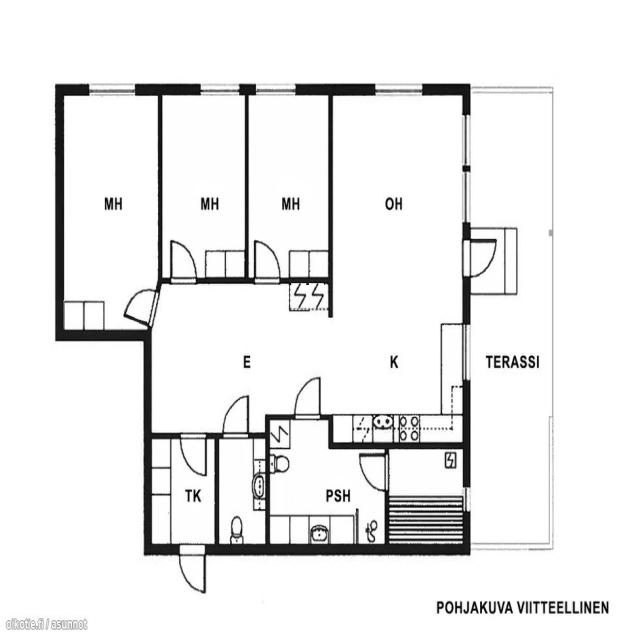door: (216, 388, 256, 440), (462, 233, 502, 281), (291, 369, 325, 424), (356, 447, 393, 497), (176, 542, 209, 597), (166, 234, 200, 286), (178, 430, 210, 480), (121, 282, 157, 326), (251, 235, 282, 284)
window: (458, 111, 475, 231), (82, 76, 144, 102), (368, 76, 428, 101), (194, 77, 245, 102), (458, 316, 475, 388), (250, 79, 300, 100), (458, 483, 475, 518)
zone: (332, 83, 465, 446), (151, 279, 340, 430), (60, 88, 162, 335), (161, 89, 249, 283), (248, 89, 331, 282), (266, 442, 388, 548), (386, 443, 468, 552), (148, 433, 218, 552), (217, 434, 267, 549)
